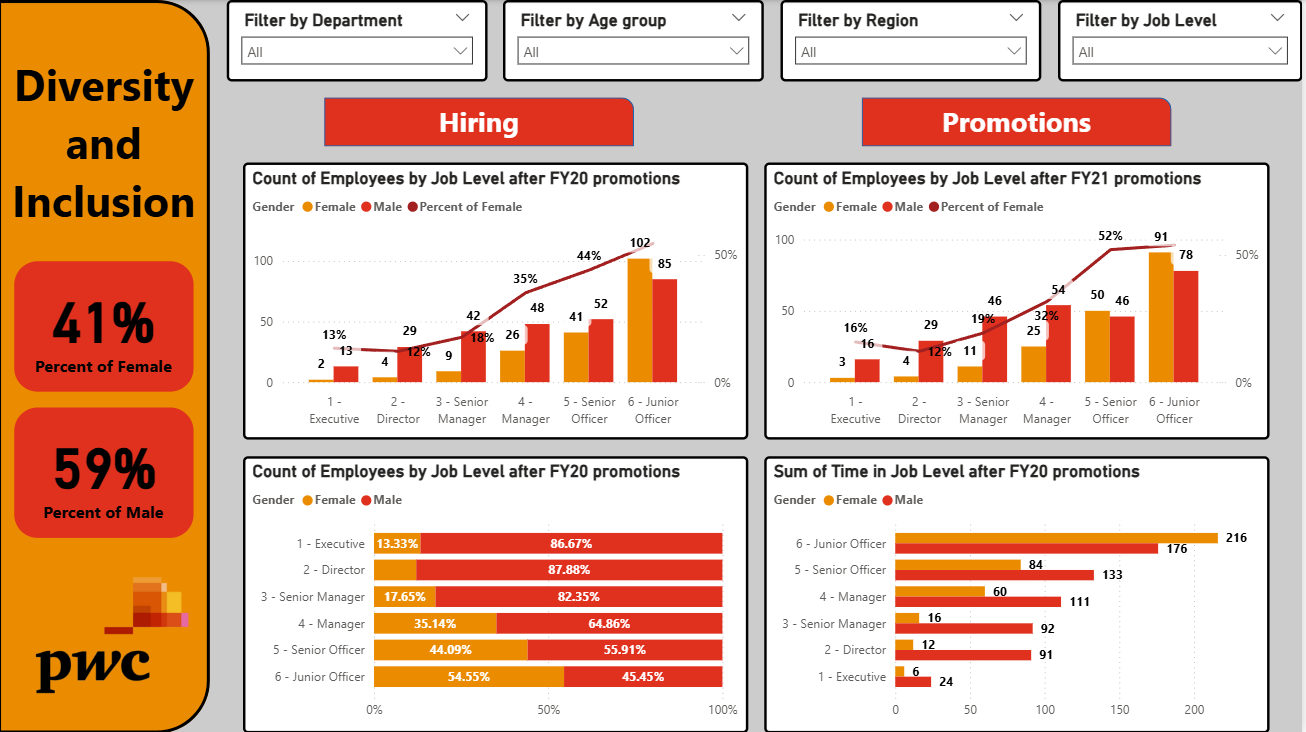

This screenshot's page, from the dashboard's own definition file:
{"tool":"powerbi","page":{"name":"Page 1","canvas":[1280,720],"ordinal":0},"visuals":[{"type":"shape","box":[0,0,208,720],"z":0},{"type":"hundredPercentStackedBarChart","title":"Count of Employees by Job Level after FY20 promotions","fields":{"Category":["Pharma Group AG.Job Level after FY20 promotions"],"Series":["Pharma Group AG.Gender"],"Y":["CountNonNull(Pharma Group AG.Employee ID)"]},"box":[240,448,496,272],"z":1000},{"type":"textbox","box":[0,48,208,192],"z":2000},{"type":"slicer","fields":{"Values":["Pharma Group AG.Department @01.07.2020"]},"box":[224,0,256,80],"z":3000},{"type":"slicer","fields":{"Values":["Pharma Group AG.Age @01.07.2020"]},"box":[496,0,256,80],"z":4000},{"type":"slicer","fields":{"Values":["Pharma Group AG.Job Level after FY20 promotions"]},"box":[1040,0,240,80],"z":5000},{"type":"slicer","fields":{"Values":["Pharma Group AG.Broad region group: nationality 1"]},"box":[768,0,256,80],"z":6000},{"type":"card","fields":{"Values":["Pharma Group AG.Percent of Female"]},"box":[16,256,176,128],"z":7000},{"type":"card","fields":{"Values":["Pharma Group AG.Percent of Male"]},"box":[16,400,176,128],"z":8000},{"type":"lineClusteredColumnComboChart","title":"Count of Employees by Job Level after FY20 promotions","fields":{"Series":["Pharma Group AG.Gender"],"Category":["Pharma Group AG.Job Level after FY20 promotions"],"Y":["CountNonNull(Pharma Group AG.Employee ID)"],"Y2":["Pharma Group AG.Percent of Female"]},"box":[240,160,496,272],"z":9000},{"type":"lineClusteredColumnComboChart","title":"Count of Employees by Job Level after FY21 promotions","fields":{"Series":["Pharma Group AG.Gender"],"Y":["CountNonNull(Pharma Group AG.Employee ID)"],"Y2":["Pharma Group AG.Percent of Female"],"Category":["Pharma Group AG.Job Level after FY21 promotions"]},"box":[752,160,496,272],"z":10000},{"type":"clusteredBarChart","title":"Sum of Time in Job Level after FY20 promotions ","fields":{"Series":["Pharma Group AG.Gender"],"Y":["Sum(Pharma Group AG.Time in Job Level @01.07.2020)"],"Category":["Pharma Group AG.Job Level after FY20 promotions"]},"box":[752,448,496,272],"z":11000},{"type":"shape","box":[320,96,304,48],"z":12000},{"type":"textbox","box":[400,96,144,48],"z":13000},{"type":"shape","box":[848,96,304,48],"z":14000},{"type":"textbox","box":[880,96,240,48],"z":15000},{"type":"image","box":[32,544,160,160],"z":16000}]}

Visuals, with their boxes in screenshot pixels (x1, y1, x2, y2), scaled from the page's 1280x720 canvas onto the 1306x732 screenshot:
shape: <bbox>0, 0, 212, 731</bbox>
"Count of Employees by Job Level after FY20 promotions" hundredPercentStackedBarChart: <bbox>245, 455, 751, 731</bbox>
textbox: <bbox>0, 49, 212, 244</bbox>
slicer - Pharma Group AG.Department @01.07.2020: <bbox>229, 0, 490, 81</bbox>
slicer - Pharma Group AG.Age @01.07.2020: <bbox>506, 0, 767, 81</bbox>
slicer - Pharma Group AG.Job Level after FY20 promotions: <bbox>1061, 0, 1305, 81</bbox>
slicer - Pharma Group AG.Broad region group: nationality 1: <bbox>784, 0, 1045, 81</bbox>
card - Pharma Group AG.Percent of Female: <bbox>16, 260, 196, 390</bbox>
card - Pharma Group AG.Percent of Male: <bbox>16, 407, 196, 537</bbox>
"Count of Employees by Job Level after FY20 promotions" lineClusteredColumnComboChart: <bbox>245, 163, 751, 439</bbox>
"Count of Employees by Job Level after FY21 promotions" lineClusteredColumnComboChart: <bbox>767, 163, 1273, 439</bbox>
"Sum of Time in Job Level after FY20 promotions " clusteredBarChart: <bbox>767, 455, 1273, 731</bbox>
shape: <bbox>326, 98, 637, 146</bbox>
textbox: <bbox>408, 98, 555, 146</bbox>
shape: <bbox>865, 98, 1175, 146</bbox>
textbox: <bbox>898, 98, 1143, 146</bbox>
image: <bbox>33, 553, 196, 716</bbox>
